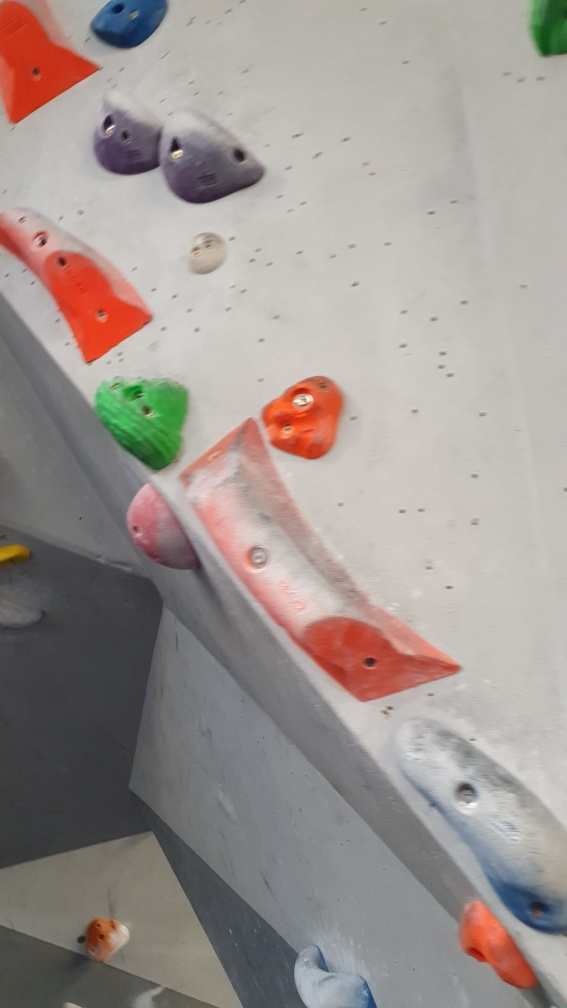Jug: (159, 104, 266, 207), (90, 367, 188, 471), (93, 84, 165, 178), (292, 942, 373, 1008)
Pinch: (176, 416, 465, 703), (392, 710, 564, 935), (1, 205, 158, 365), (1, 1, 104, 125)
Sloper: (124, 480, 203, 572)
